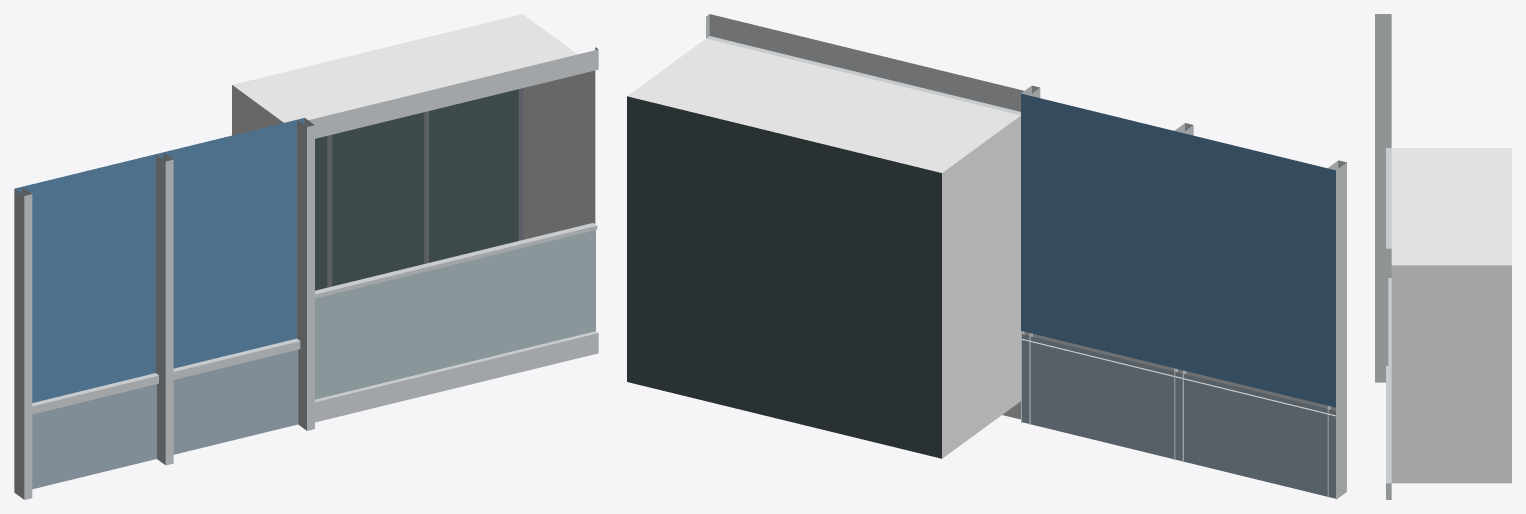
The model's file is mid-w1.fbx.
The picture shows the model from 3 angles, left to right: view 1: azimuth 30°, elevation 25°; view 2: azimuth 150°, elevation 25°; view 3: azimuth 270°, elevation 25°; orthographic projection. The views are drawn at different scales.
Parts seen in each view (by area): view 1: a2007/750/mid-w1; view 2: a2007/750/mid-w1; view 3: a2007/750/mid-w1.
Part boxes in pixels (x1=…): a2007/750/mid-w1: x1=14, y1=14, x2=598, y2=499; a2007/750/mid-w1: x1=627, y1=14, x2=1346, y2=499; a2007/750/mid-w1: x1=1375, y1=14, x2=1511, y2=499.
Size of the model in its own units: 6 by 3 by 1.48.
